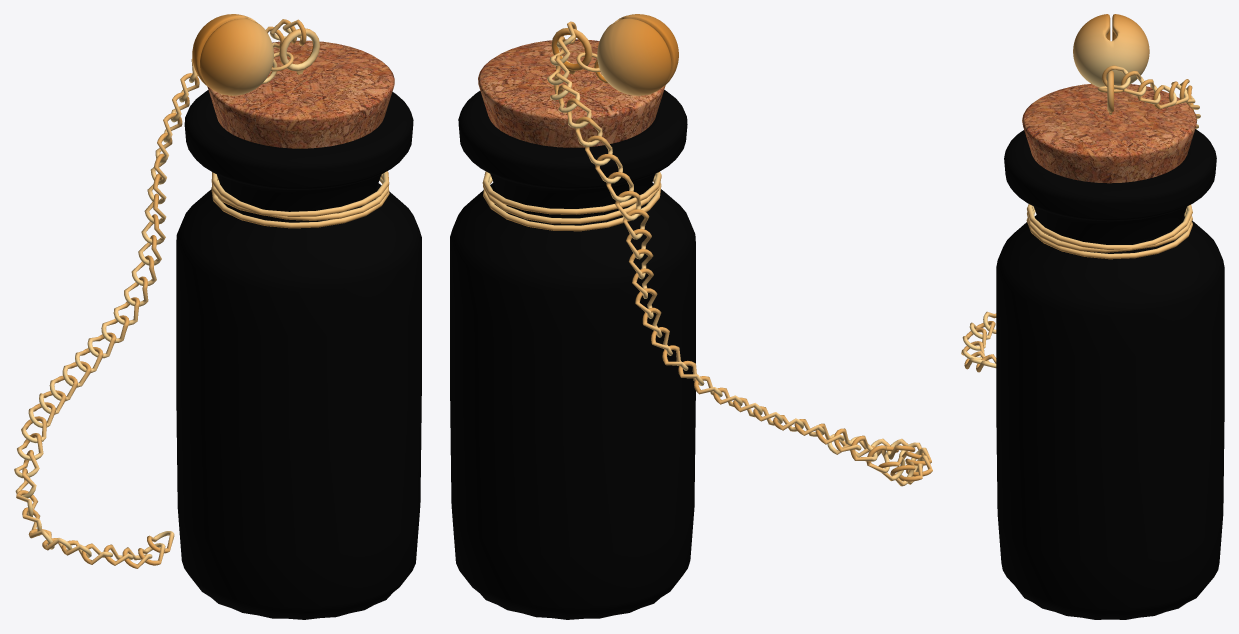
3 renders of one model, left to right at view 1: azimuth 30°, elevation 25°; view 2: azimuth 150°, elevation 25°; view 3: azimuth 270°, elevation 25°, orthographic. The views are drawn at different scales.
Visible parts, largest first — view 1: polySurface72; view 2: polySurface72; view 3: polySurface72.
Boxes of the visible parts, left/top/right/bottom form: polySurface72: left=14, top=14, right=421, bottom=619; polySurface72: left=450, top=14, right=932, bottom=619; polySurface72: left=961, top=14, right=1224, bottom=619.
Bounding box in the file's own units: 121 × 162 × 71.69.
